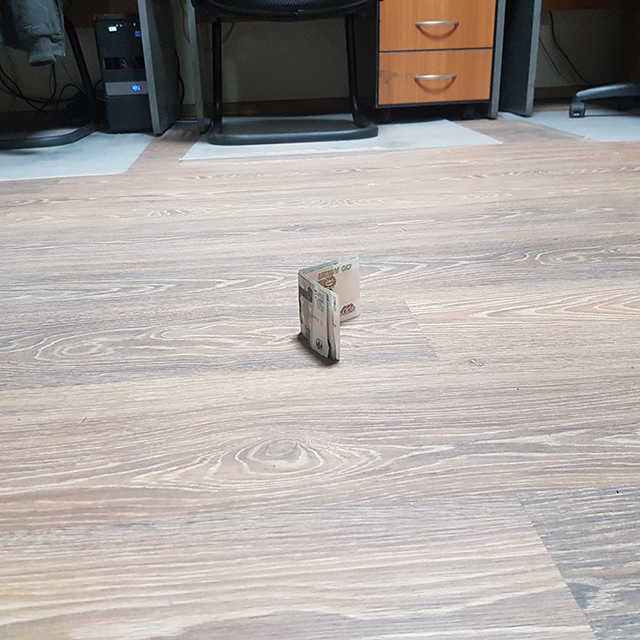banknotes: (299, 256, 359, 362)
